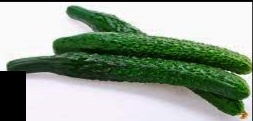cucumber: (68, 7, 251, 70), (5, 55, 247, 97)
